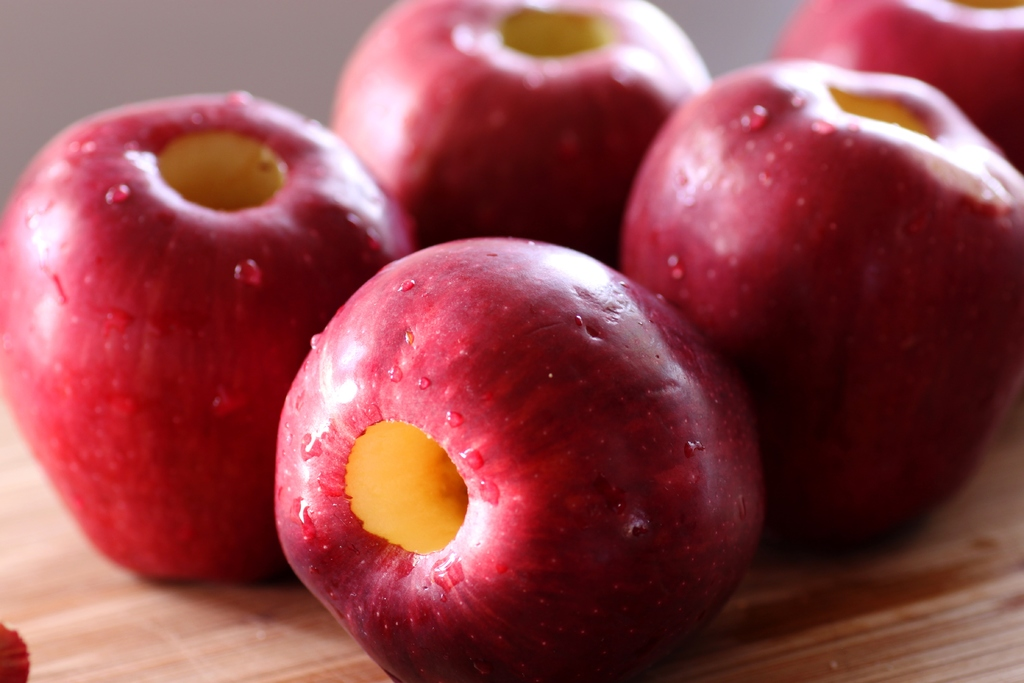Apple: (272, 225, 762, 672), (0, 89, 426, 588), (621, 55, 1023, 548), (330, 0, 711, 265), (768, 0, 1023, 172)
